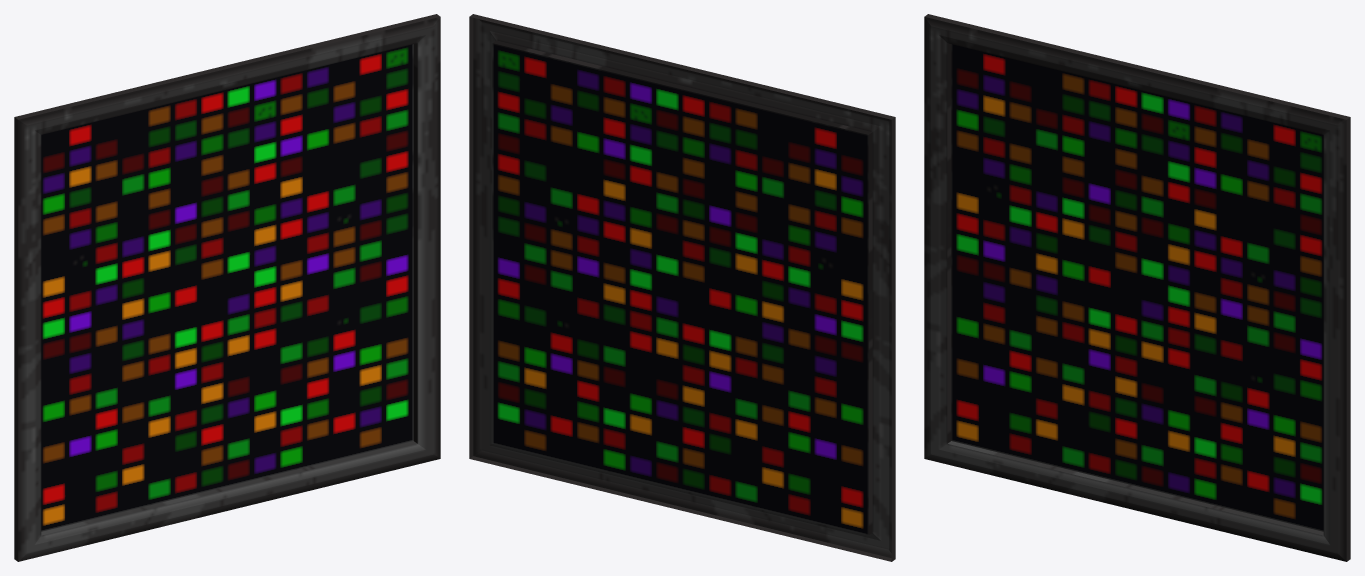
File: bridg2_9.fbx
3 renders of one model, left to right at view 1: azimuth 30°, elevation 25°; view 2: azimuth 150°, elevation 25°; view 3: azimuth 330°, elevation 25°, orthographic.
Visible parts, largest first — view 1: bridg2_9; view 2: bridg2_9; view 3: bridg2_9.
Boxes of the visible parts, <box> form: bridg2_9: <box>14,14,440,561</box>; bridg2_9: <box>469,14,895,561</box>; bridg2_9: <box>924,14,1350,561</box>.
Size of the model in its own units: 256 by 256 by 5.
